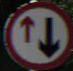Two way: (14, 7, 64, 58)
